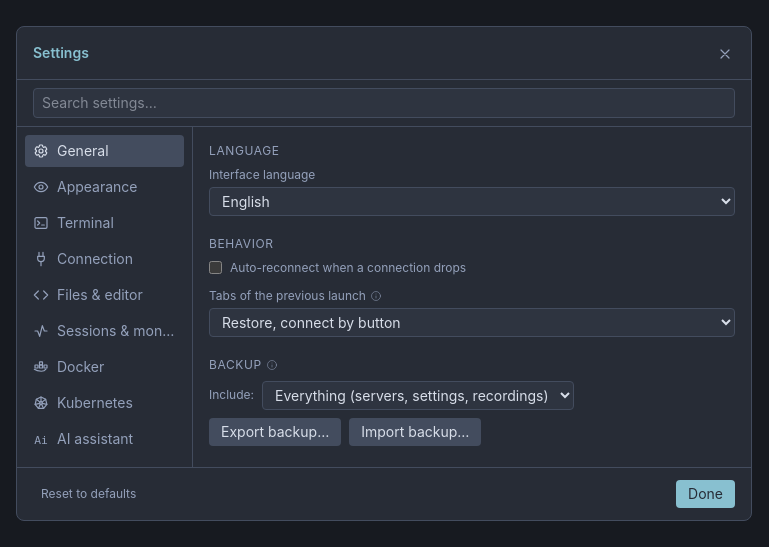
Test: SettingsPanel — backup › a backup that cannot be read is an error, not an empty preview
Click the button with test id "backup-import".
click(415, 432)  # box [349,418,481,446]
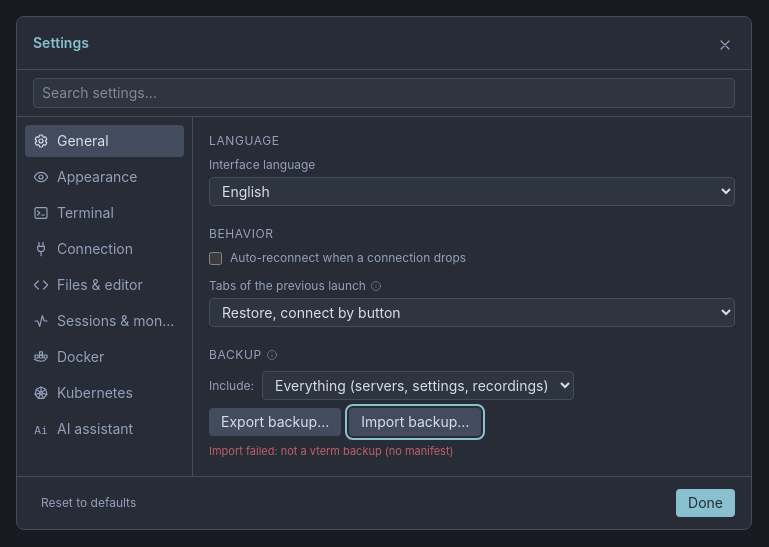
Now the text with test id "backup-msg" shows "no manifest", box [209,444,454,458]
